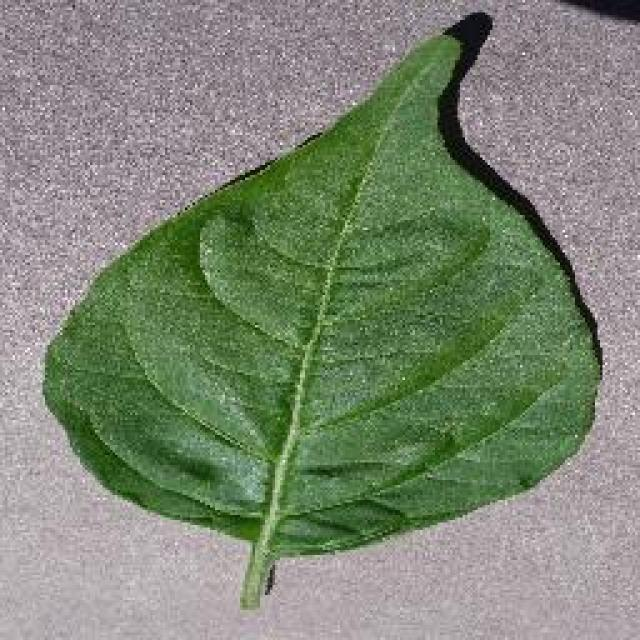Chilli_Healthy: (40, 8, 602, 608)
